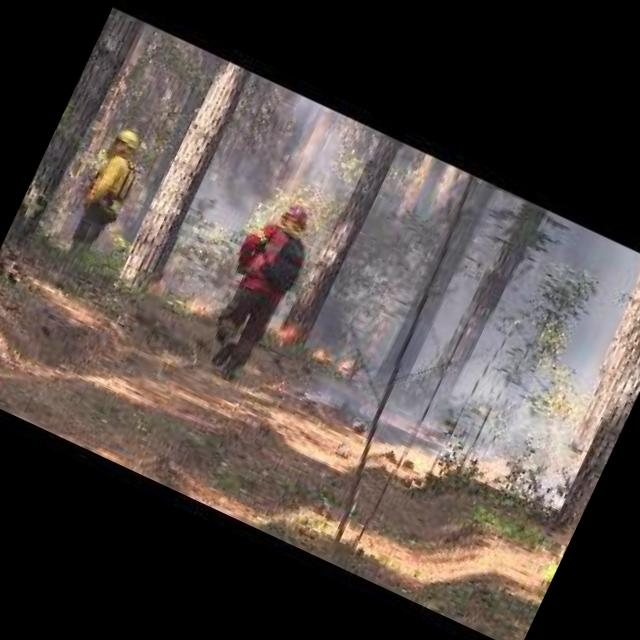fire: (180, 292, 215, 322), (336, 354, 356, 374), (276, 324, 296, 343), (312, 348, 333, 363)
